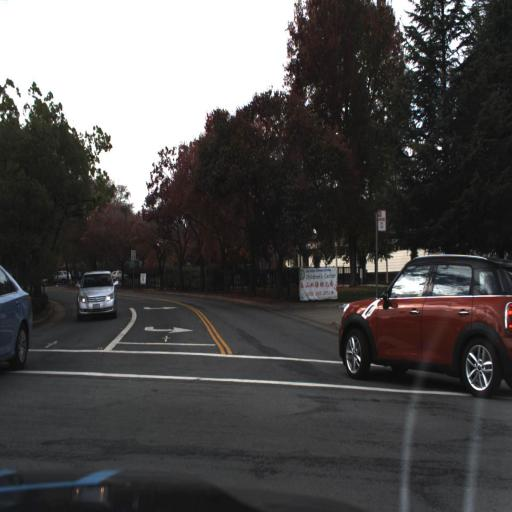car: (338, 250, 512, 403), (0, 252, 36, 380), (76, 269, 118, 321)
